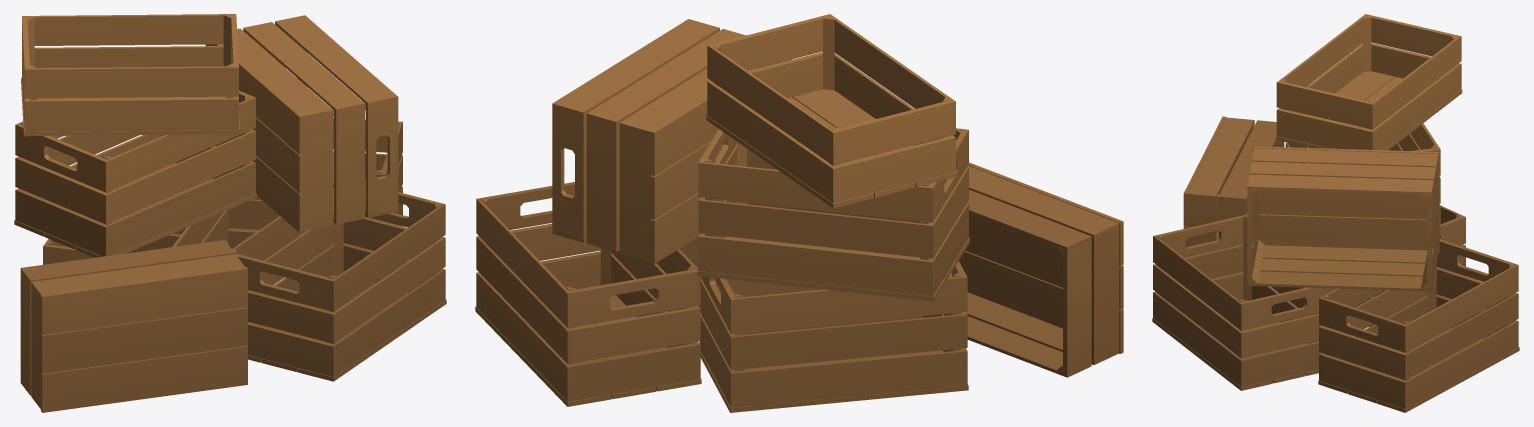
The model's file is Prop_Wooden_Crate_Pile_01.obj.
The picture shows the model from 3 angles, left to right: view 1: azimuth 30°, elevation 25°; view 2: azimuth 150°, elevation 25°; view 3: azimuth 270°, elevation 25°; orthographic projection. The views are drawn at different scales.
Visible parts, largest first — view 1: Prop_Wooden_Crate_Pile_01; view 2: Prop_Wooden_Crate_Pile_01; view 3: Prop_Wooden_Crate_Pile_01.
Boxes of the visible parts, box(x1,y1,x2,y2) form: Prop_Wooden_Crate_Pile_01: box(14, 14, 446, 412); Prop_Wooden_Crate_Pile_01: box(475, 14, 1123, 412); Prop_Wooden_Crate_Pile_01: box(1152, 14, 1519, 412).
Size of the model in its own units: 1.91 by 1.04 by 1.51.
Materials: 1 (1 with a texture image).
